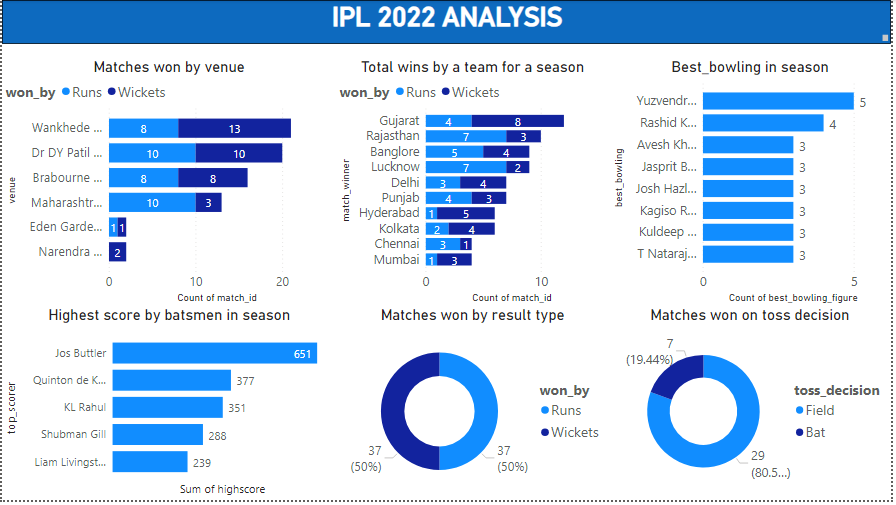

This screenshot's page, from the dashboard's own definition file:
{"tool":"powerbi","page":{"name":"Page 1","canvas":[1280,720],"ordinal":0},"visuals":[{"type":"barChart","title":"Highest score by batsmen in season","fields":{"Y":["ipl_2022_edited.highscore"],"Category":["ipl_2022_edited.top_scorer"]},"box":[0,440.8,481.3,278.6],"z":0},{"type":"donutChart","title":"Matches won by result type","fields":{"Category":["ipl_2022_edited.won_by"],"Y":["ipl_2022_edited.match_id"]},"box":[481.3,440.8,393.2,278.6],"z":1},{"type":"donutChart","title":"Matches won on toss decision","fields":{"Y":["ipl_2022_edited.Matches won on toss decision"],"Category":["ipl_2022_edited.toss_decision"]},"box":[874.5,440.8,405.5,278.6],"z":2},{"type":"barChart","title":"Matches won by venue","fields":{"Category":["ipl_2022_edited.venue"],"Y":["ipl_2022_edited.match_id"],"Series":["ipl_2022_edited.won_by"]},"box":[0,82.9,481.3,357.9],"z":3},{"type":"barChart","title":"Total wins by a team for a season","fields":{"Category":["ipl_2022_edited.match_winner"],"Y":["ipl_2022_edited.match_id"],"Series":["ipl_2022_edited.won_by"]},"box":[481.3,82.9,393.2,357.9],"z":4},{"type":"barChart","title":"Best_bowling in season","fields":{"Category":["ipl_2022_edited.best_bowling"],"Y":["ipl_2022_edited.best_bowling_figure"]},"box":[874,83,406,358],"z":5},{"type":"textbox","title":"IPL 2022 ANALYSIS","box":[0,0,1280,63.5],"z":6}]}

Visuals, with their boxes in screenshot pixels (x1, y1, x2, y2), scaled from the page's 1280x720 canvas onto the 896x505 screenshot:
"Highest score by batsmen in season" barChart: [0, 309, 337, 504]
"Matches won by result type" donutChart: [337, 309, 612, 504]
"Matches won on toss decision" donutChart: [612, 309, 895, 504]
"Matches won by venue" barChart: [0, 58, 337, 309]
"Total wins by a team for a season" barChart: [337, 58, 612, 309]
"Best_bowling in season" barChart: [612, 58, 895, 309]
"IPL 2022 ANALYSIS" textbox: [0, 0, 895, 45]
